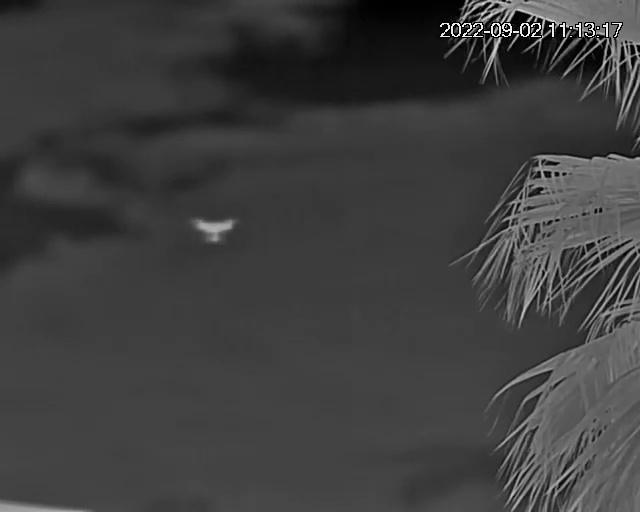DJI-Phantom: (190, 218, 240, 246)
